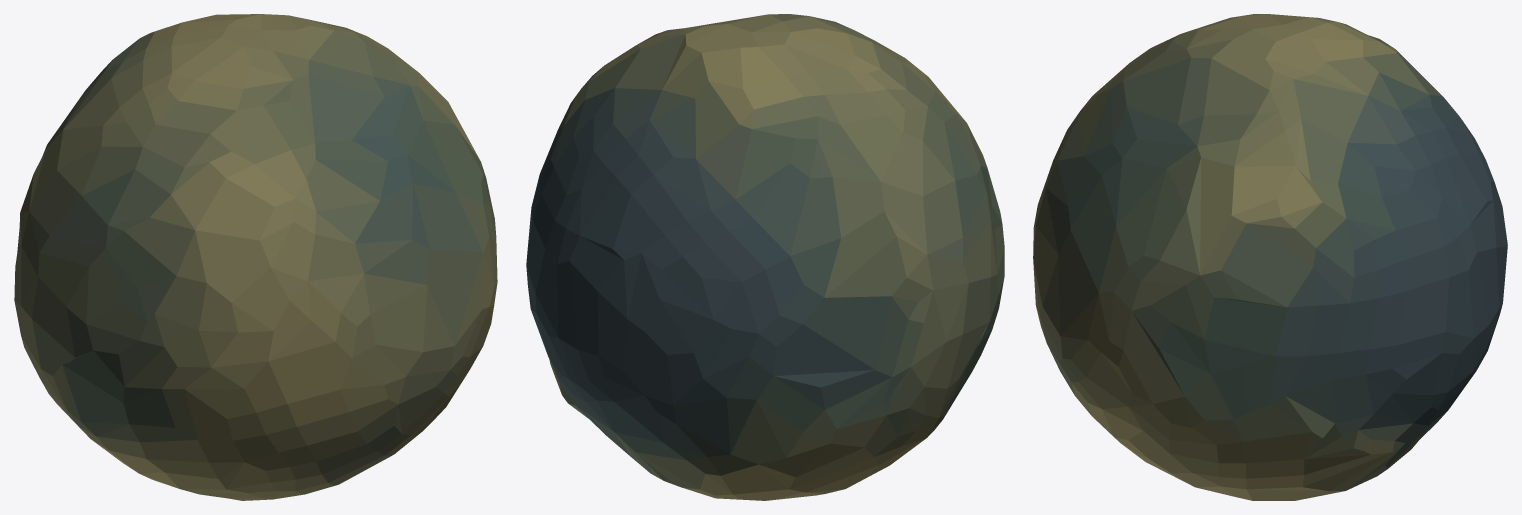
Rendered from zeometry-organic-forms-lumpy-sphere_v9.glb.
3 views of the same model, side by side, from view 1: azimuth 30°, elevation 25°; view 2: azimuth 150°, elevation 25°; view 3: azimuth 270°, elevation 25° (orthographic).
Visible parts, largest first — view 1: Lumpy Sphere_v9; view 2: Lumpy Sphere_v9; view 3: Lumpy Sphere_v9.
Part boxes in pixels (left/top/right/bottom): Lumpy Sphere_v9: left=14, top=14, right=497, bottom=500; Lumpy Sphere_v9: left=526, top=14, right=1004, bottom=500; Lumpy Sphere_v9: left=1033, top=14, right=1507, bottom=500.
Size of the model in its own units: 0.4871 by 0.5 by 0.4882.
